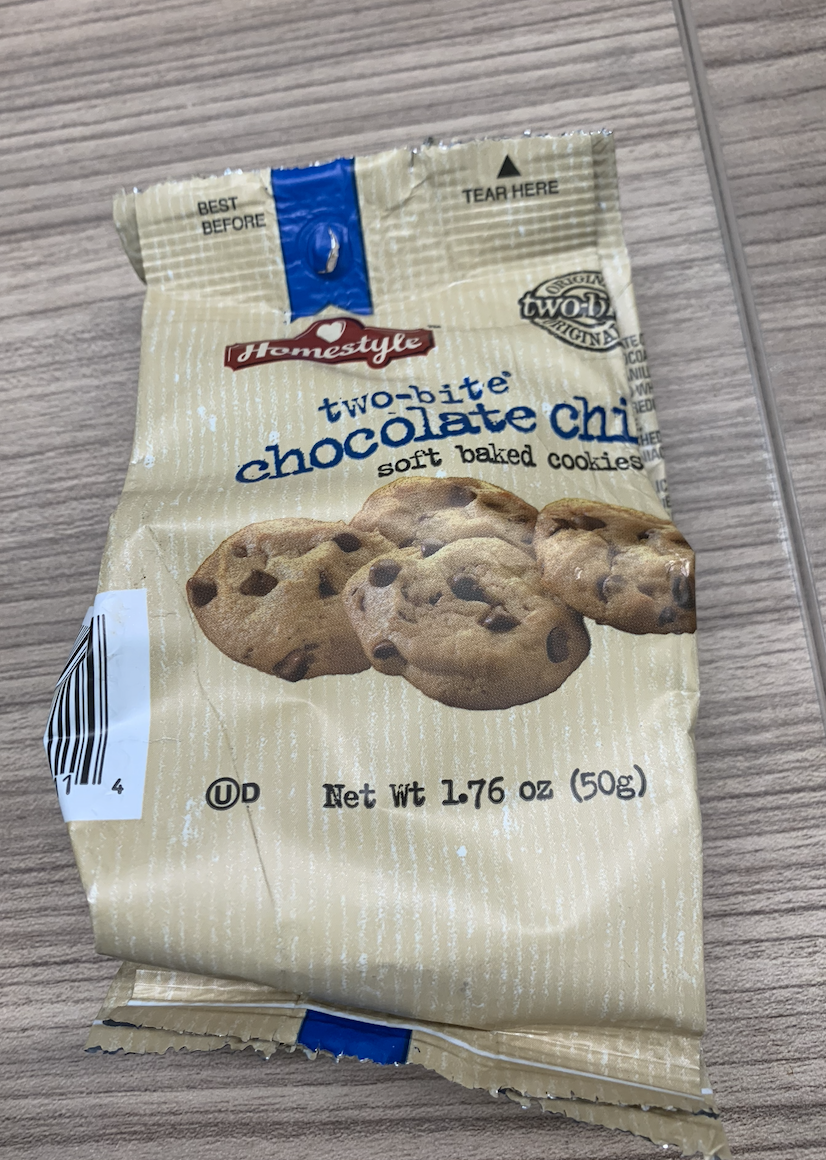cookies_1g-99g: (183, 225, 681, 992)
